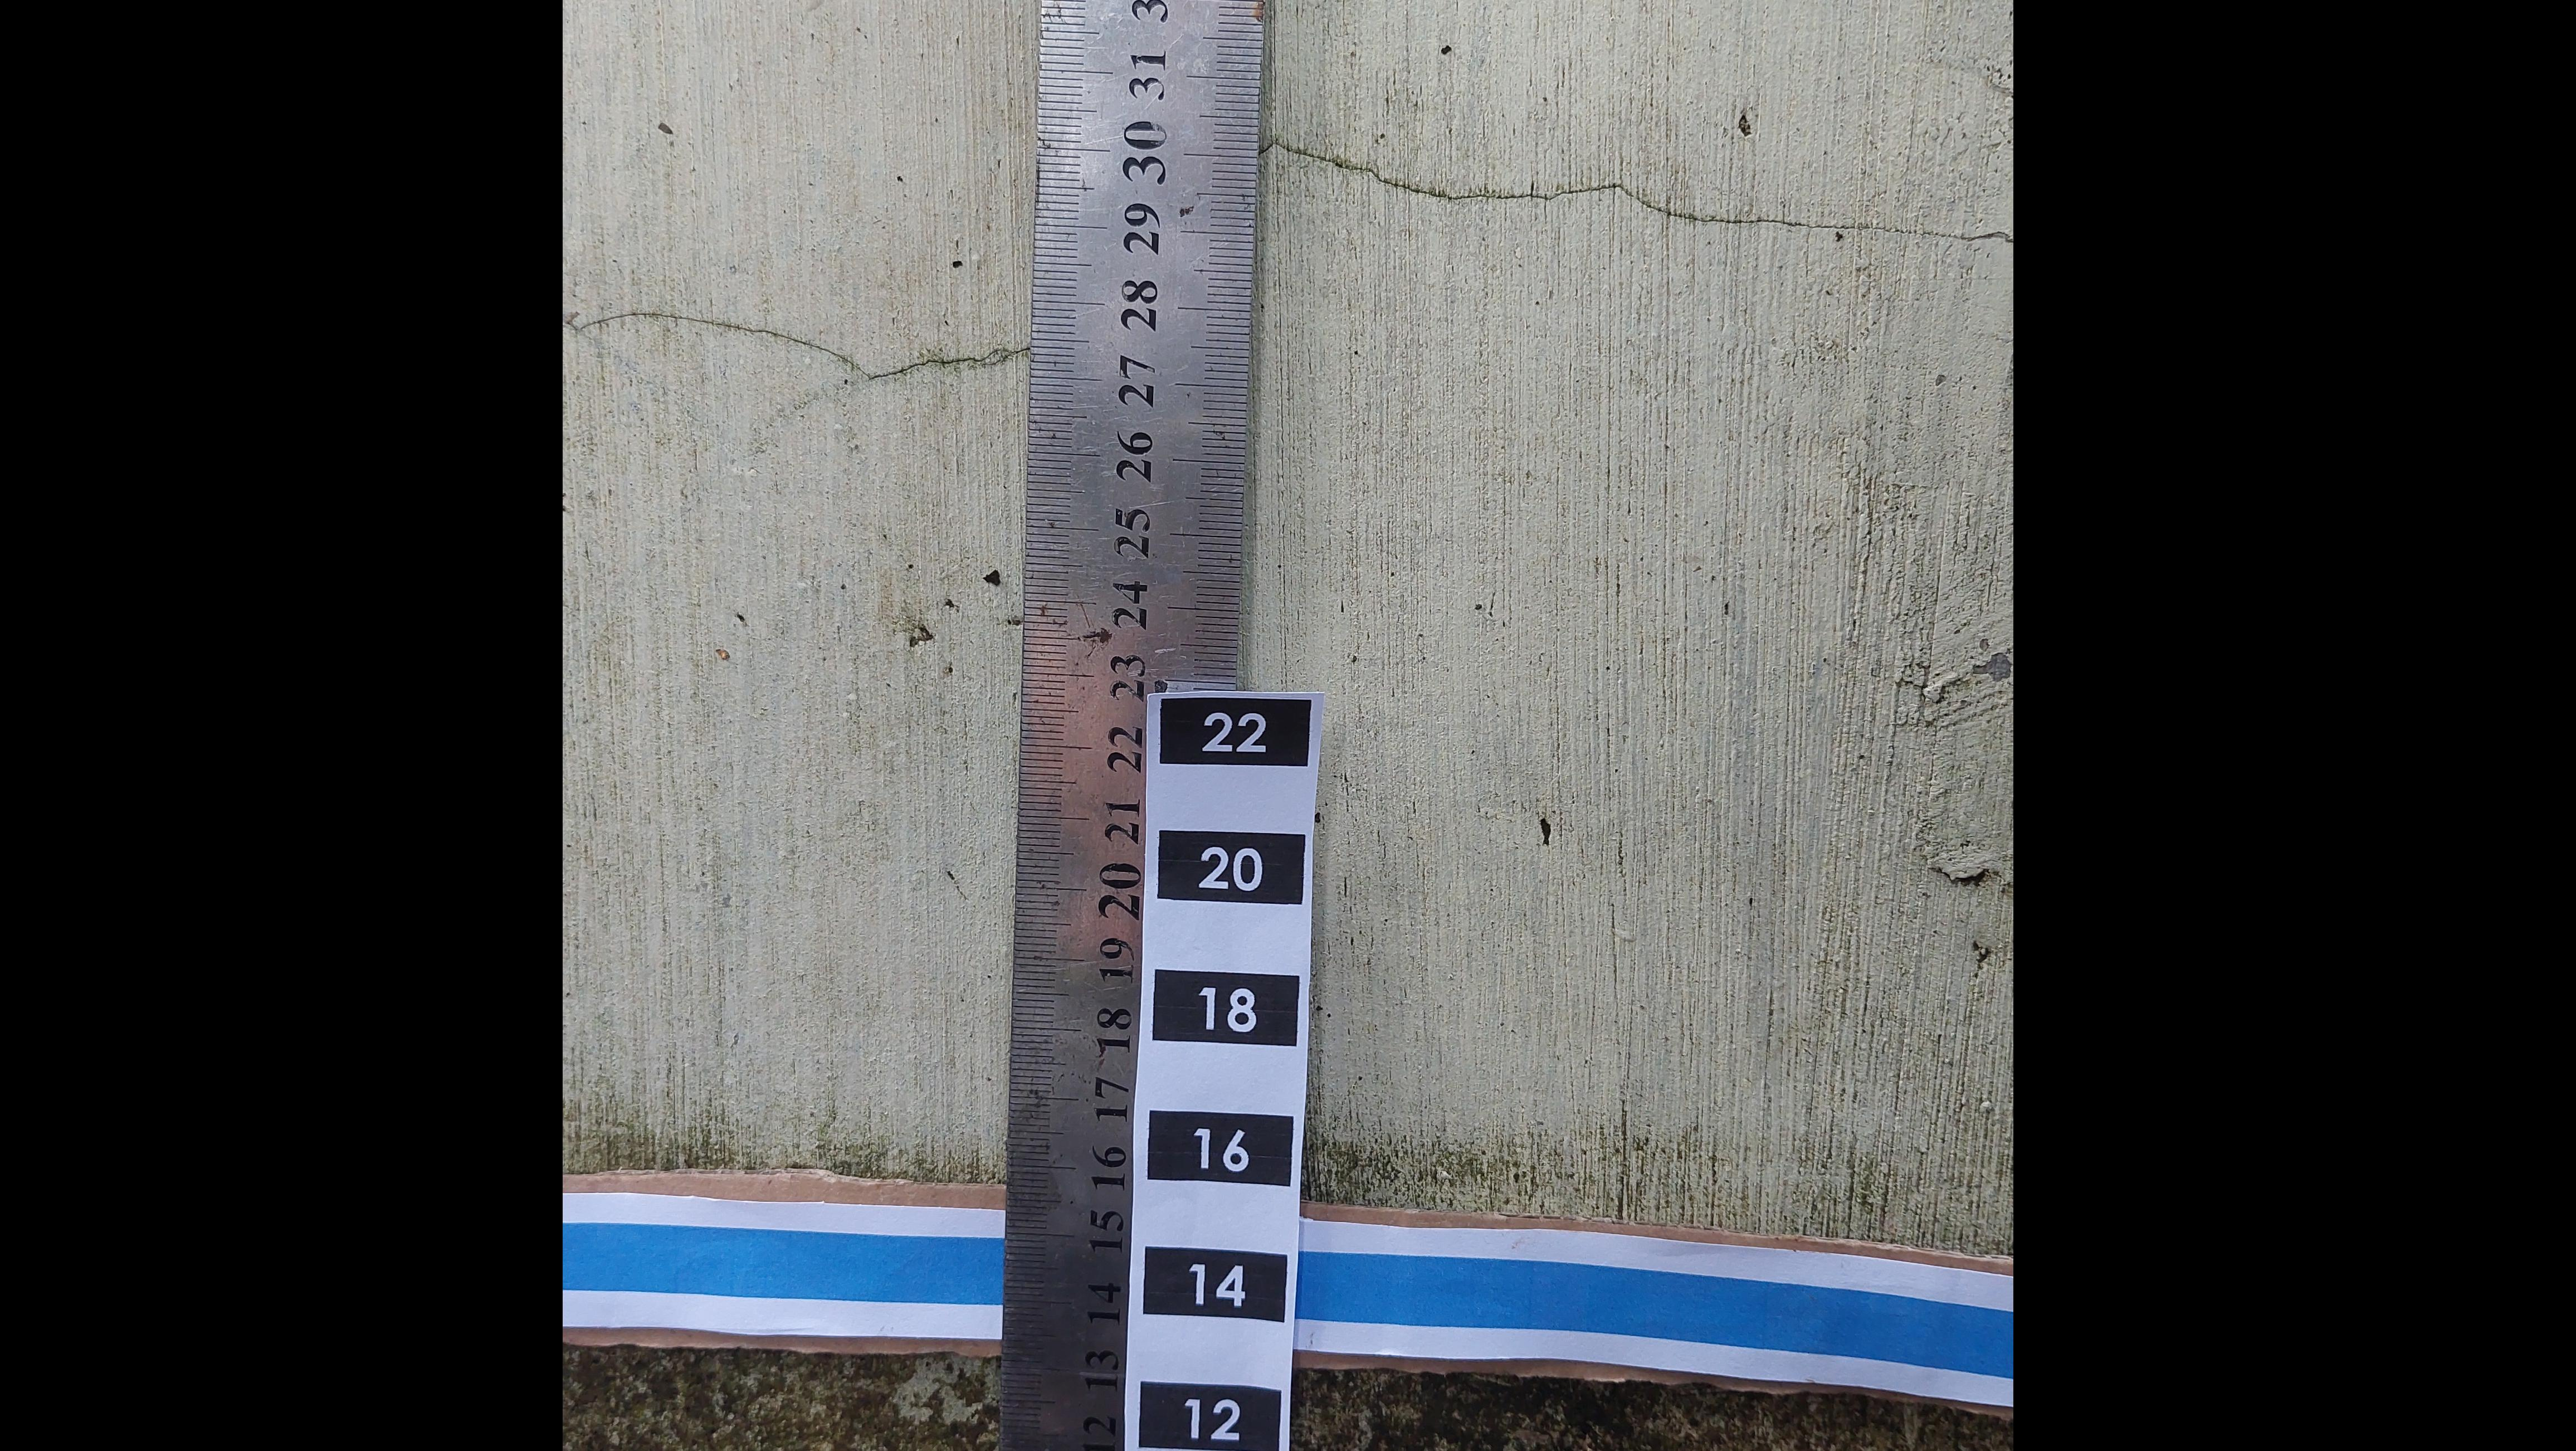kotak_2x1: (1148, 1109, 1290, 1187), (1161, 832, 1302, 908), (1145, 1248, 1284, 1324), (1155, 970, 1297, 1044), (1162, 697, 1307, 768)
